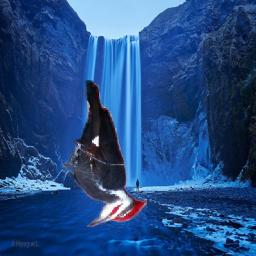Woodpecker: (63, 81, 148, 228)
